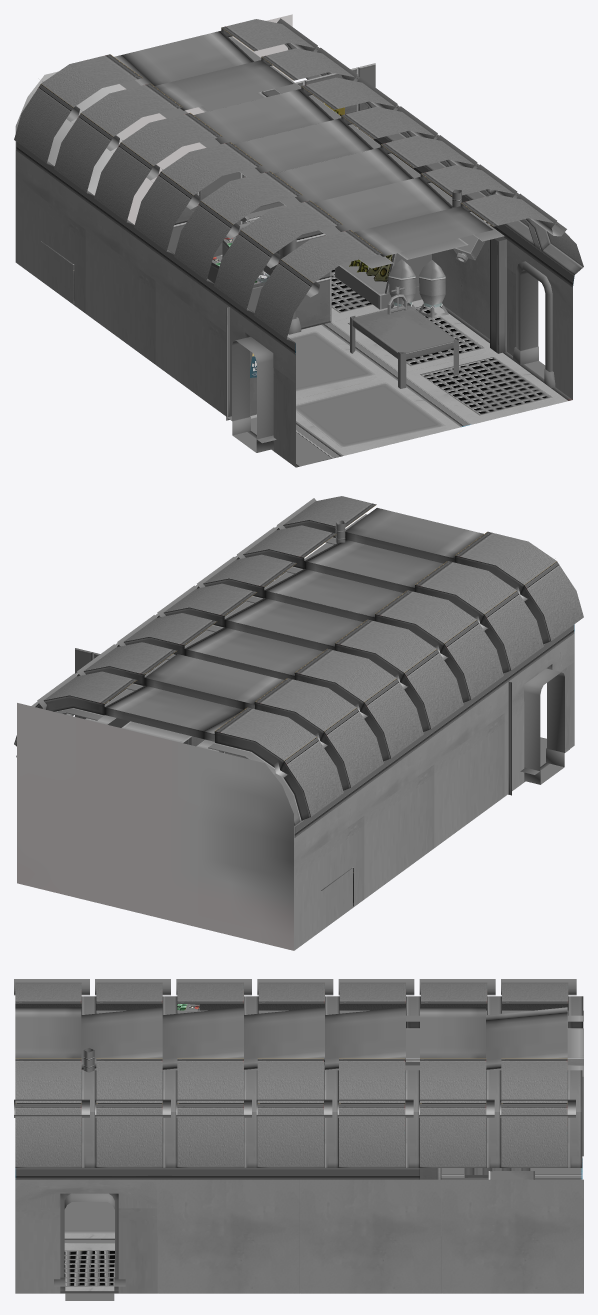
Rendered from MSH_Armory_room_L2_R1_optimized.fbx.
3 renders of one model, top to bottom at view 1: azimuth 30°, elevation 25°; view 2: azimuth 150°, elevation 25°; view 3: azimuth 270°, elevation 25°, orthographic.
Parts seen in each view (by area): view 1: lightmap1, lightmap-1, MSH_Armory_room_Ani01 1; view 2: lightmap1, lightmap-1; view 3: lightmap1, lightmap-1.
Part boxes in pixels (bbox=[...]): lightmap1: bbox=[14, 14, 583, 467]; lightmap-1: bbox=[232, 216, 545, 452]; MSH_Armory_room_Ani01 1: bbox=[453, 189, 496, 262]; lightmap1: bbox=[14, 496, 583, 950]; lightmap-1: bbox=[524, 668, 564, 784]; lightmap1: bbox=[14, 979, 583, 1293]; lightmap-1: bbox=[64, 1193, 114, 1300].
Size of the model in its own units: 10.42 by 6.56 by 16.55.
Materials: 2 (2 with a texture image).
